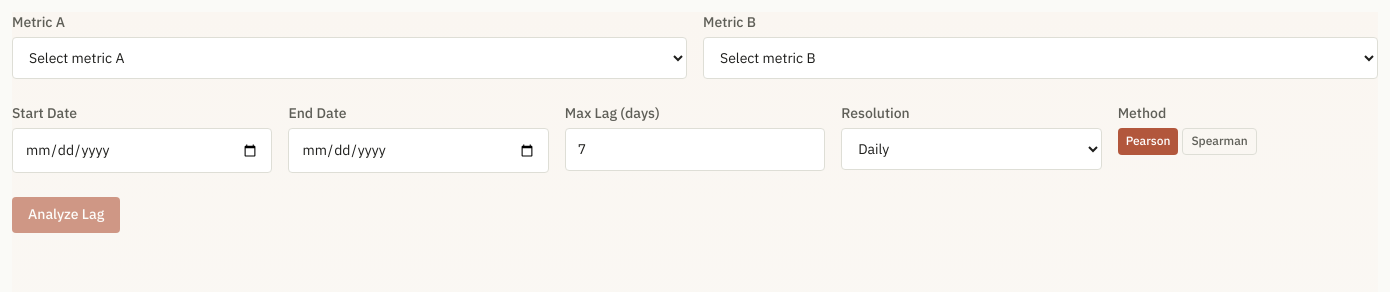
Test case: LagCorrelationForm › shows error on failure
The width and height of the screenshot is (1390, 292).
Select "Check-ins - Energy (score)" in the dropdown labelled "Metric A": (350, 58) [12, 37, 687, 79]
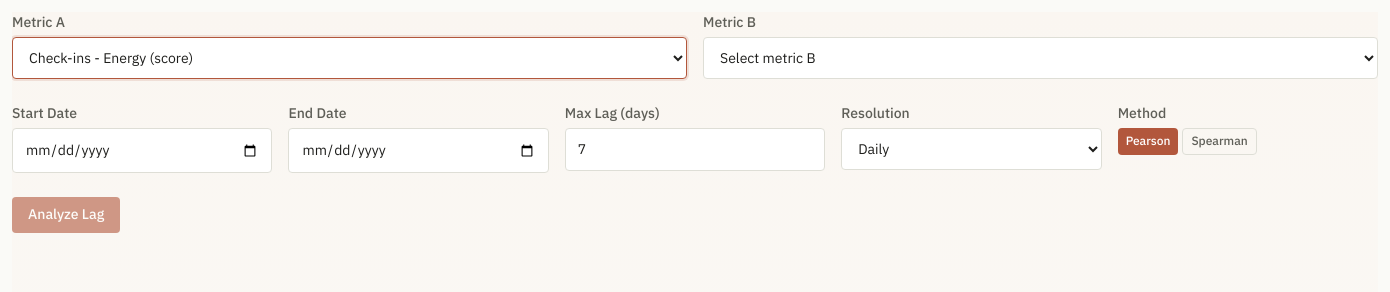
Select "Check-ins - Mood (score)" in the dropdown labelled "Metric B": (1040, 58) [703, 37, 1378, 79]
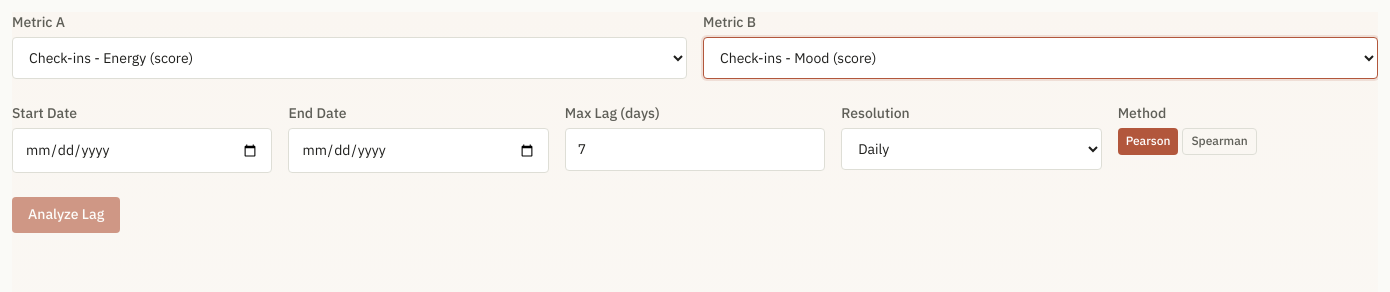
In the date field labelled "Start Date": (142, 150) [12, 128, 272, 173], type "2026-01-01"
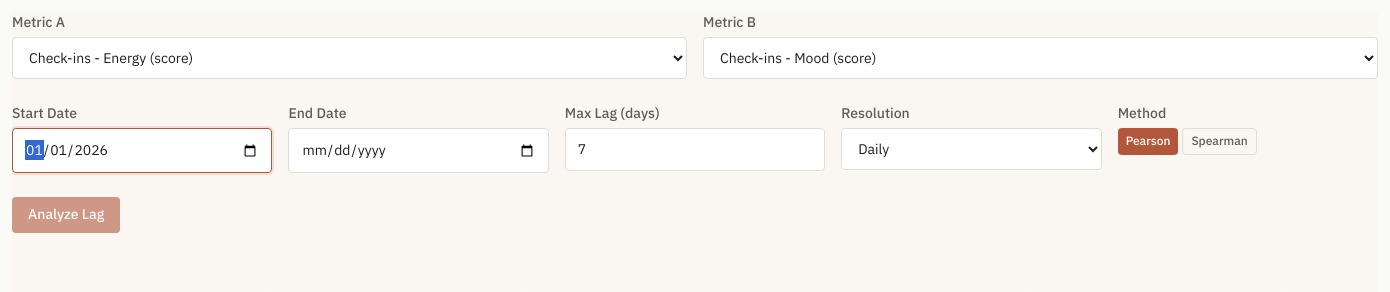
In the date field labelled "End Date": (419, 150) [288, 128, 549, 173], type "2026-03-01"
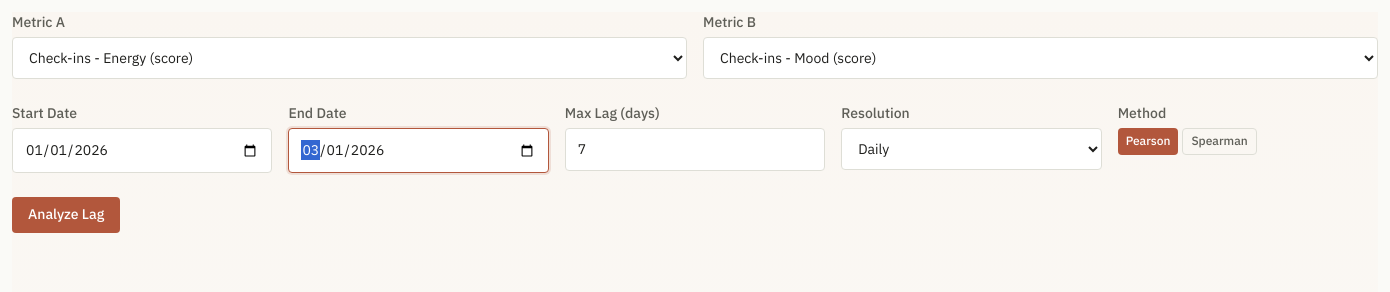
Click the button "Analyze Lag": (66, 215) [12, 197, 120, 233]
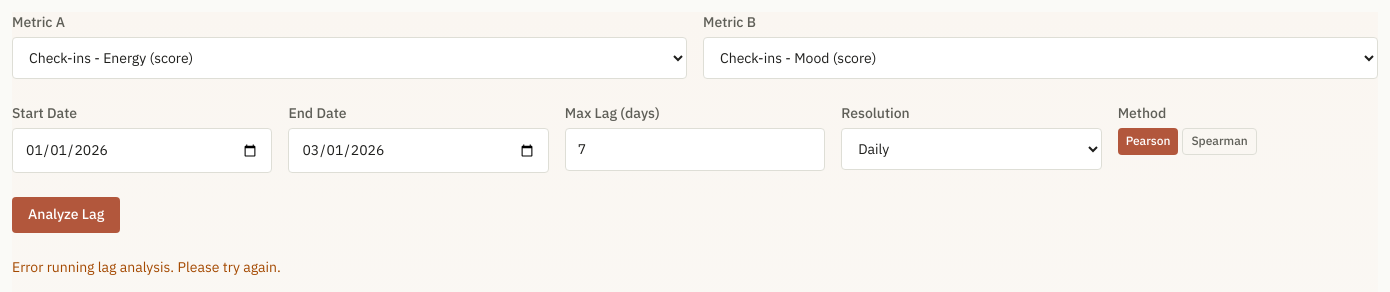
Check: the text "Error running lag analysis. Please try again." is shown, box [12, 258, 281, 276]
